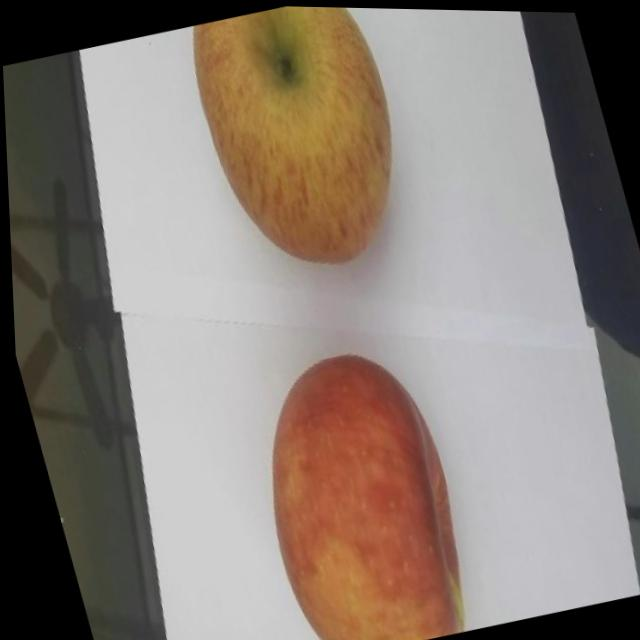Apple: (226, 336, 481, 640), (179, 3, 426, 285)
